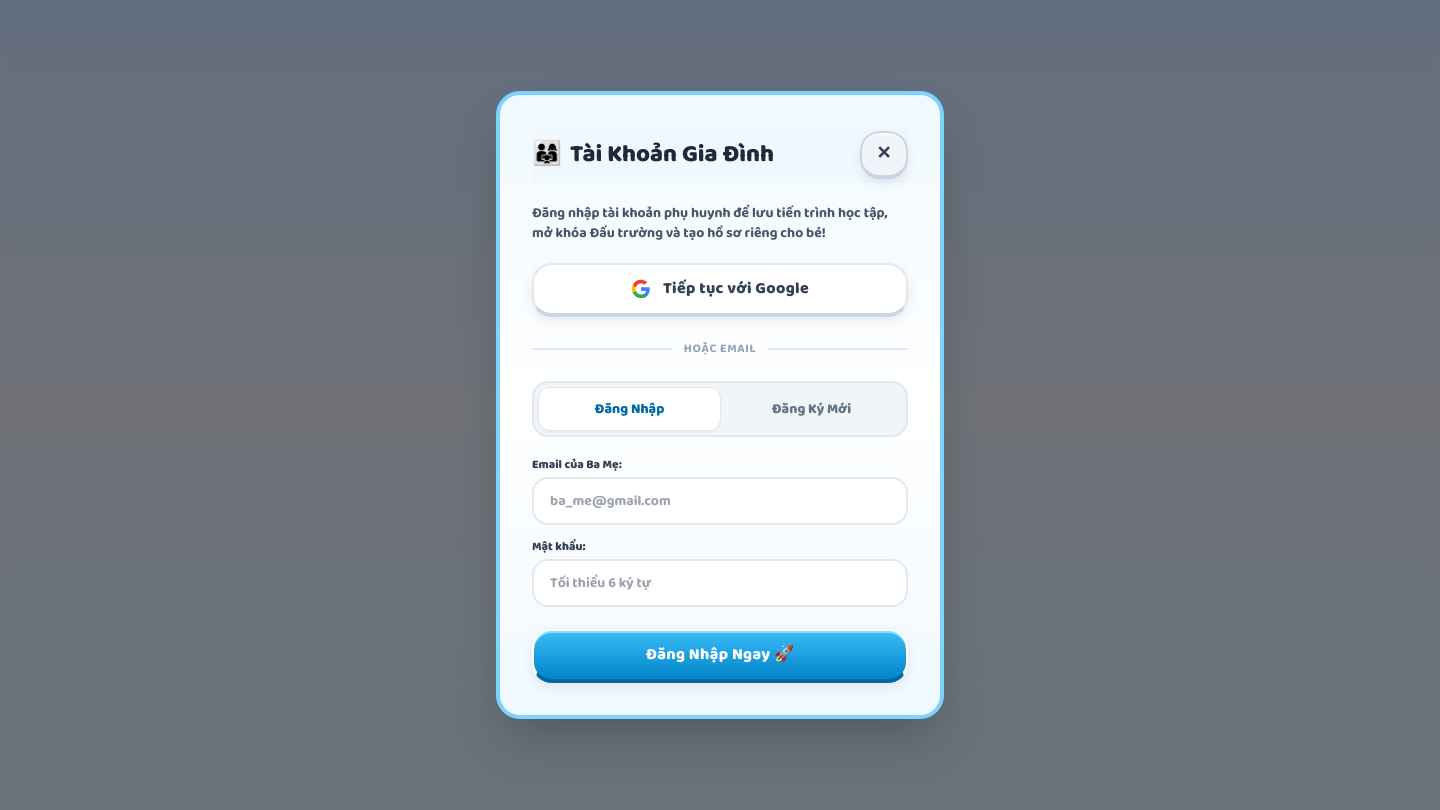
it: AuthModal › shows error message when email or password is invalid
Step 1. Type "not-an-email" into the field with test id "auth-email-input" → (720, 501), box [532,477,908,525]
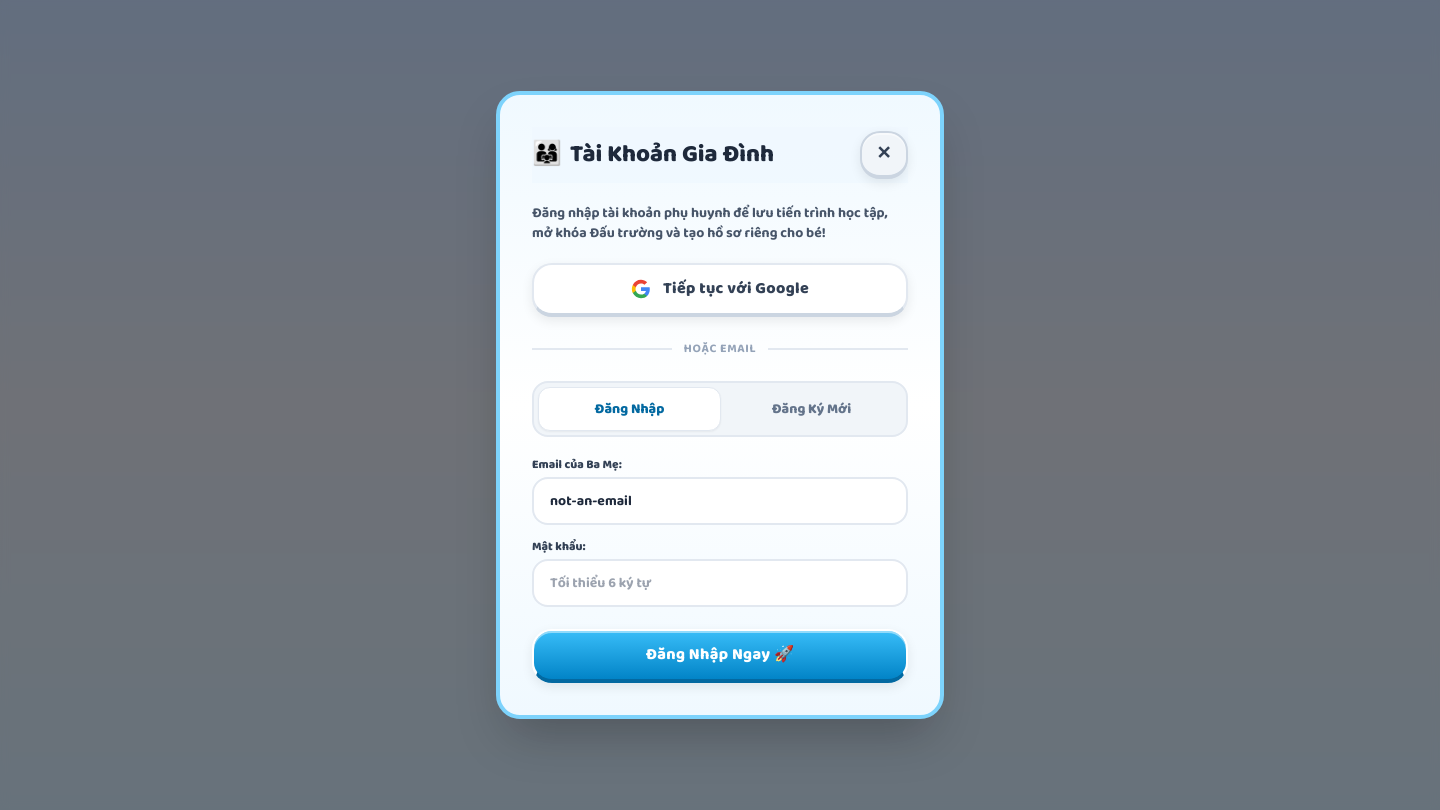
Step 2. Type "12" into the password field with test id "auth-password-input" → (720, 583), box [532,559,908,607]
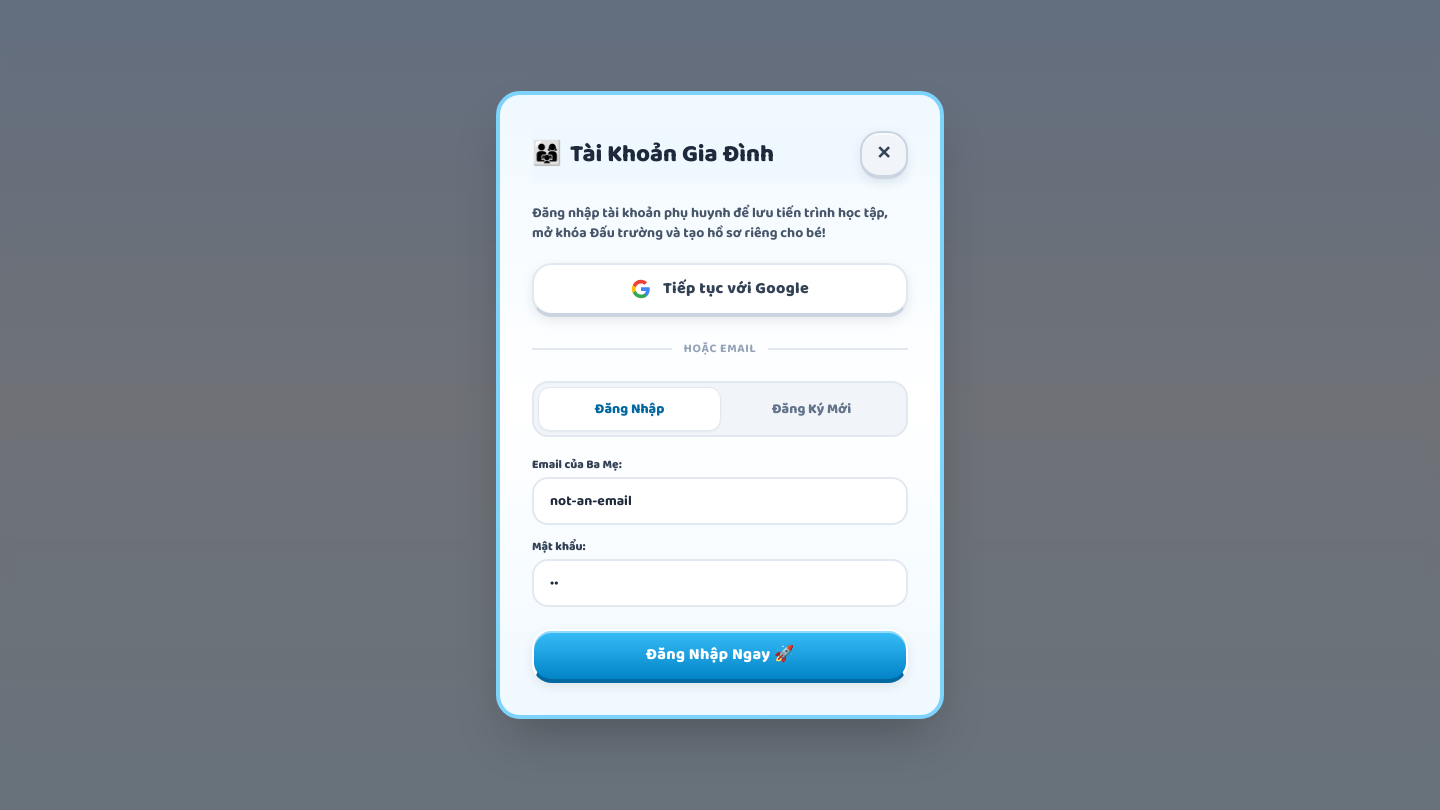
Step 3. Click the button with test id "auth-submit-btn" → (720, 656), box [532,629,908,683]
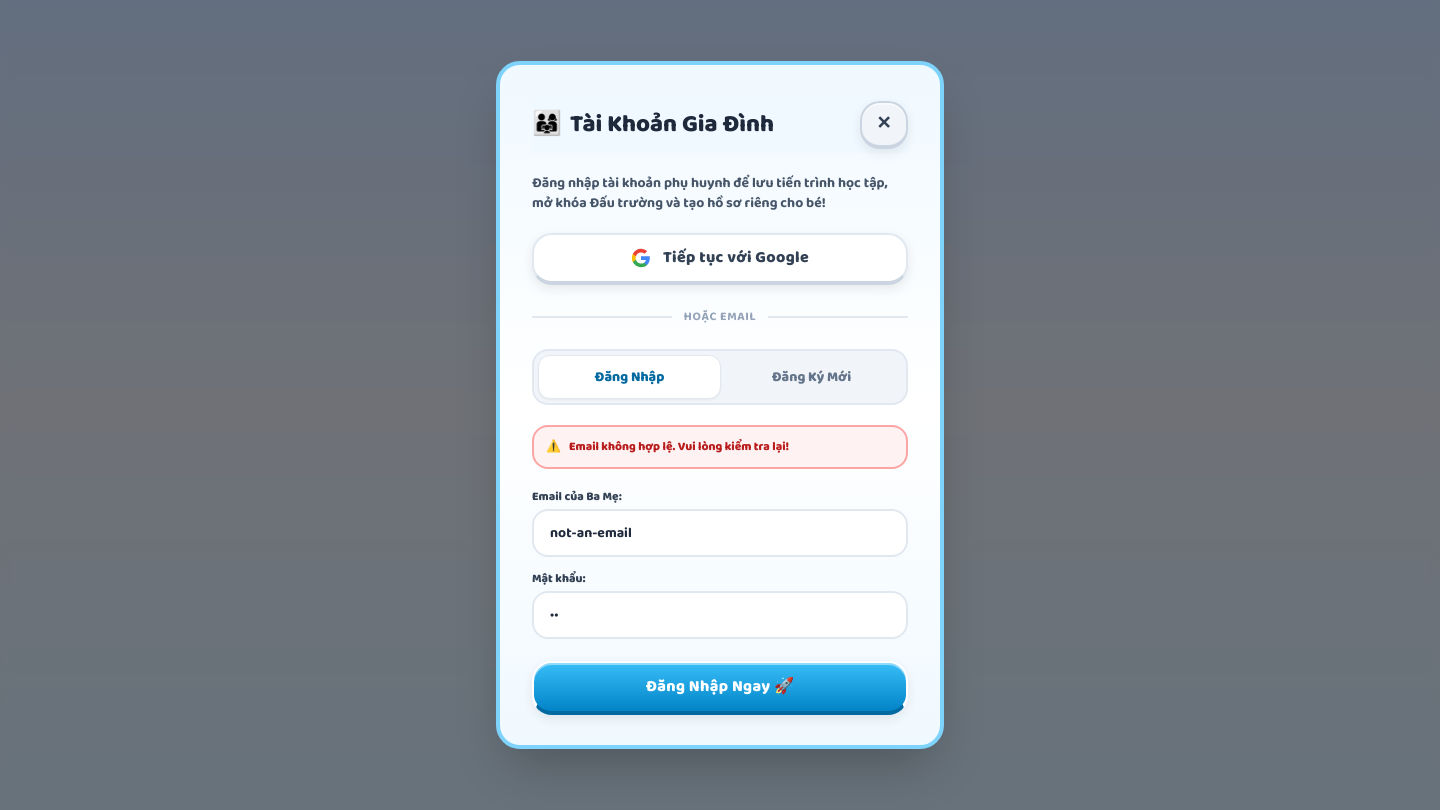
Expected: the element with test id "auth-error-message" is shown, [532,425,908,469]
